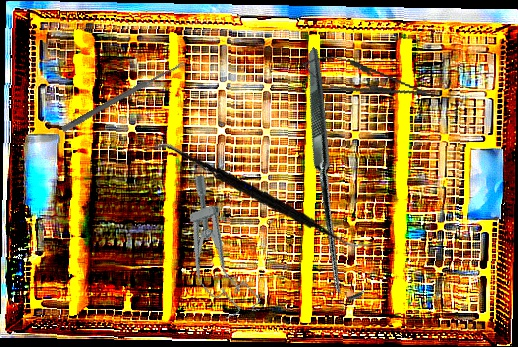Hook Surgical: (207, 47, 462, 304)
Needle Holder: (298, 49, 438, 111)
Spatula Surgical: (143, 125, 374, 270)
Speculum: (165, 170, 264, 327)
Surgical Spoon: (61, 59, 186, 134)
